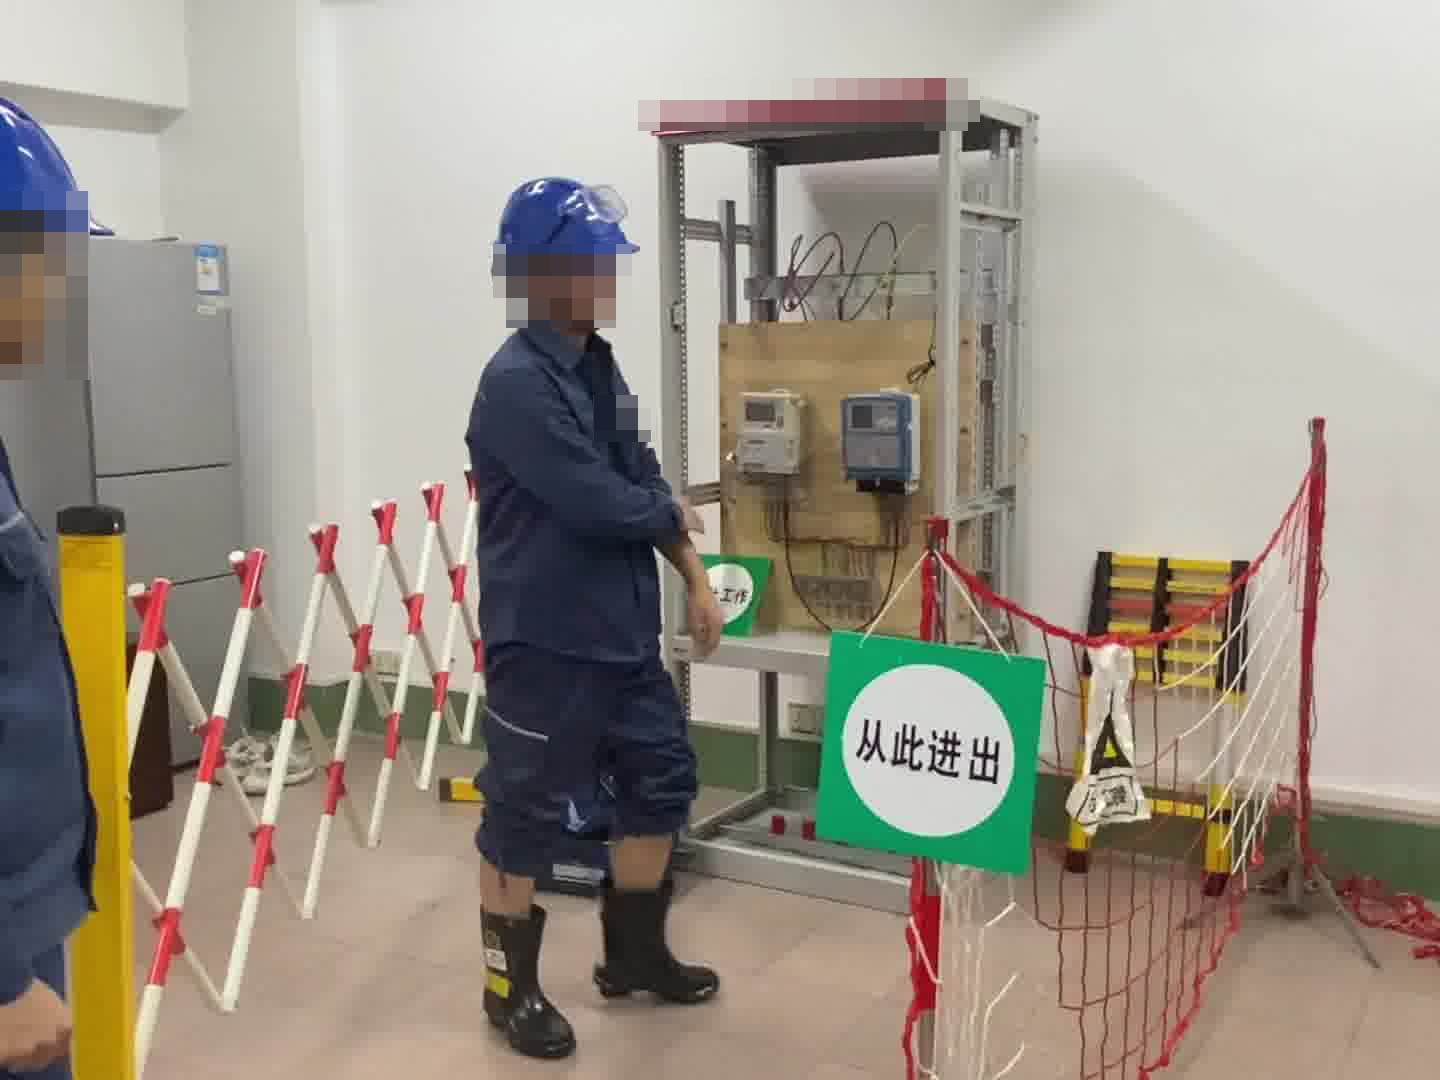downsuit: (475, 662, 697, 881)
halt: (1, 101, 114, 379), (490, 174, 639, 333)
hand: (4, 984, 78, 1069), (687, 582, 724, 657), (678, 496, 706, 537)
inear: (520, 258, 611, 330)
intosign: (823, 630, 1036, 865)
person: (454, 174, 732, 1035), (1, 92, 115, 1080)
shoe: (474, 907, 572, 1052), (606, 889, 715, 1002)
upsuit: (466, 328, 700, 659), (4, 441, 98, 980)
worksign: (699, 552, 773, 639)
wrongbottom: (471, 831, 542, 913), (609, 803, 674, 883)
wrongtop: (640, 475, 721, 659)
